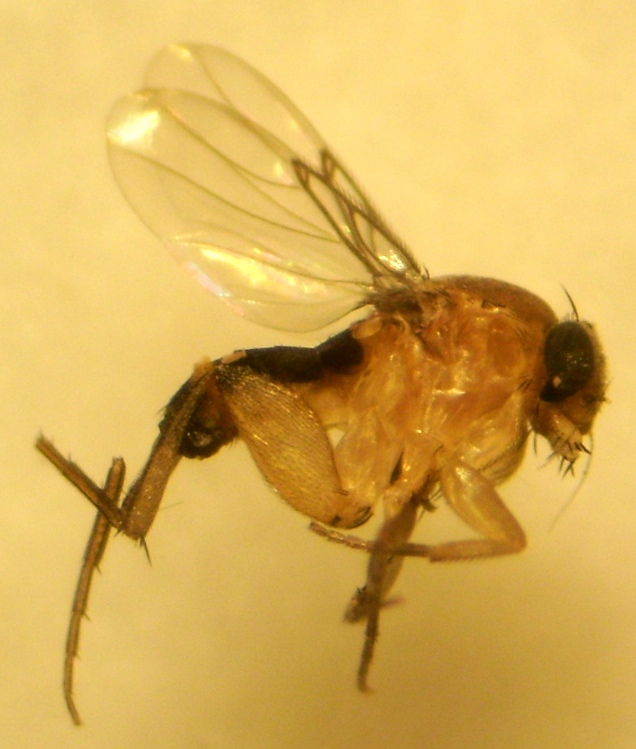phorid fly: (7, 18, 625, 741)
